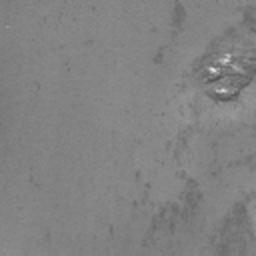Iron sheet ash: (193, 48, 256, 102), (189, 180, 202, 209), (173, 0, 185, 28), (232, 204, 244, 216)
